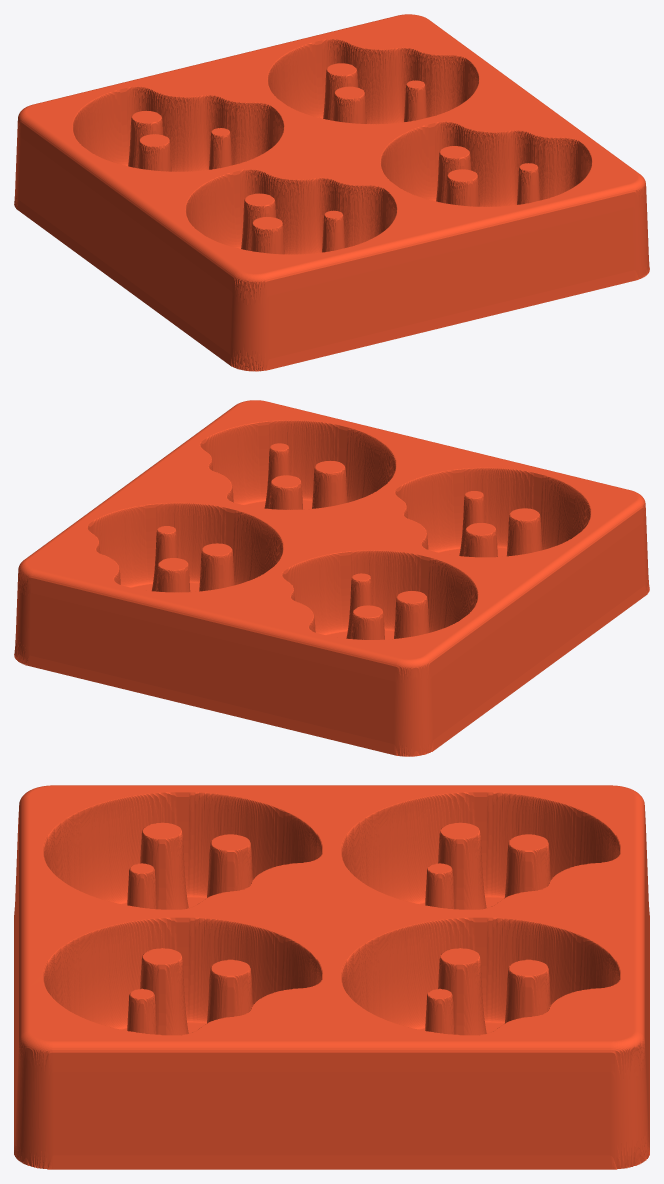
File: mold.glb
3 renders of one model, top to bottom at view 1: azimuth 30°, elevation 25°; view 2: azimuth 150°, elevation 25°; view 3: azimuth 270°, elevation 25°, orthographic. The views are drawn at different scales.
Visible parts, largest first — view 1: geometry_0; view 2: geometry_0; view 3: geometry_0.
Boxes of the visible parts, <box> form: geometry_0: <box>14,14,649,371</box>; geometry_0: <box>14,400,649,756</box>; geometry_0: <box>14,785,649,1169</box>.
Bounding box in the file's own units: 0.1461 × 0.031 × 0.1466.
